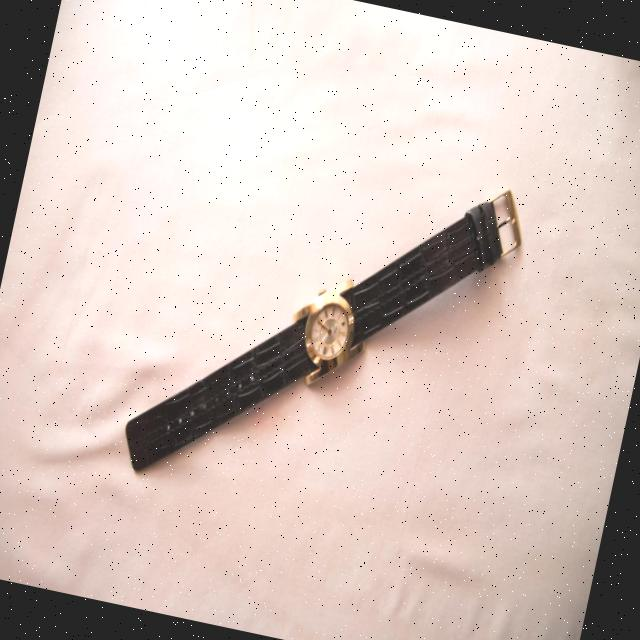Wrist watch: (116, 120, 528, 542)
